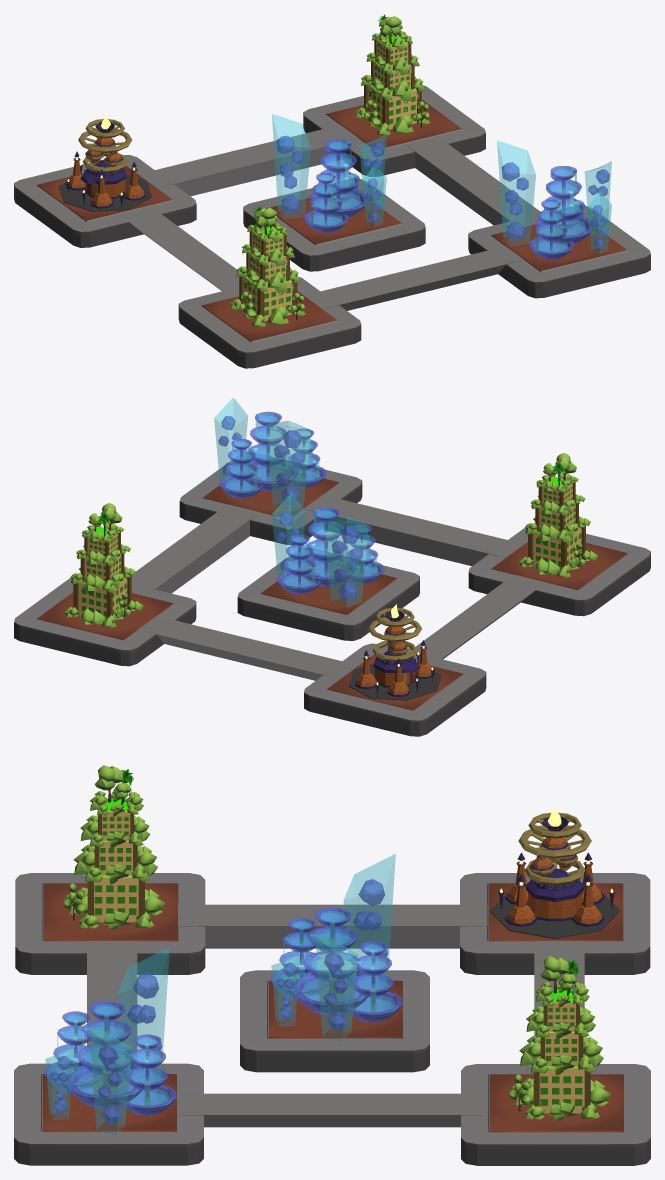
File: AllBuilding.gltf
3 renders of one model, top to bottom at view 1: azimuth 30°, elevation 25°; view 2: azimuth 150°, elevation 25°; view 3: azimuth 270°, elevation 25°, orthographic. The views are drawn at different scales.
Parts seen in each view (by area): view 1: Torus, tatakan.005, tatakan.002, tatakan.004, tatakan.001, tatakan.003; view 2: Torus, tatakan.002, tatakan.005, tatakan.001, tatakan.004, tatakan.003; view 3: tatakan.002, Torus, tatakan.005, tatakan.001, tatakan.004, tatakan.003.
Part boxes in pixels (x1,y1,x2,y2): Torus: (119,125,541,310); tatakan.005: (468,140,650,298); tatakan.002: (243,114,425,271); tatakan.004: (178,206,361,368); tatakan.001: (303,14,485,176); tatakan.003: (14,116,196,247); Torus: (131,495,545,680); tatakan.002: (237,493,419,640); tatakan.005: (179,397,362,545); tatakan.001: (14,503,196,666); tatakan.004: (468,453,650,616); tatakan.003: (304,604,486,736); tatakan.002: (240,853,429,1072); Torus: (87,904,584,1127); tatakan.005: (14,947,203,1165); tatakan.001: (461,956,650,1165); tatakan.004: (15,765,205,974); tatakan.003: (460,807,650,974).
Size of the model in its own units: 68.72 by 19.87 by 68.2.
13 materials, 5 textured.
